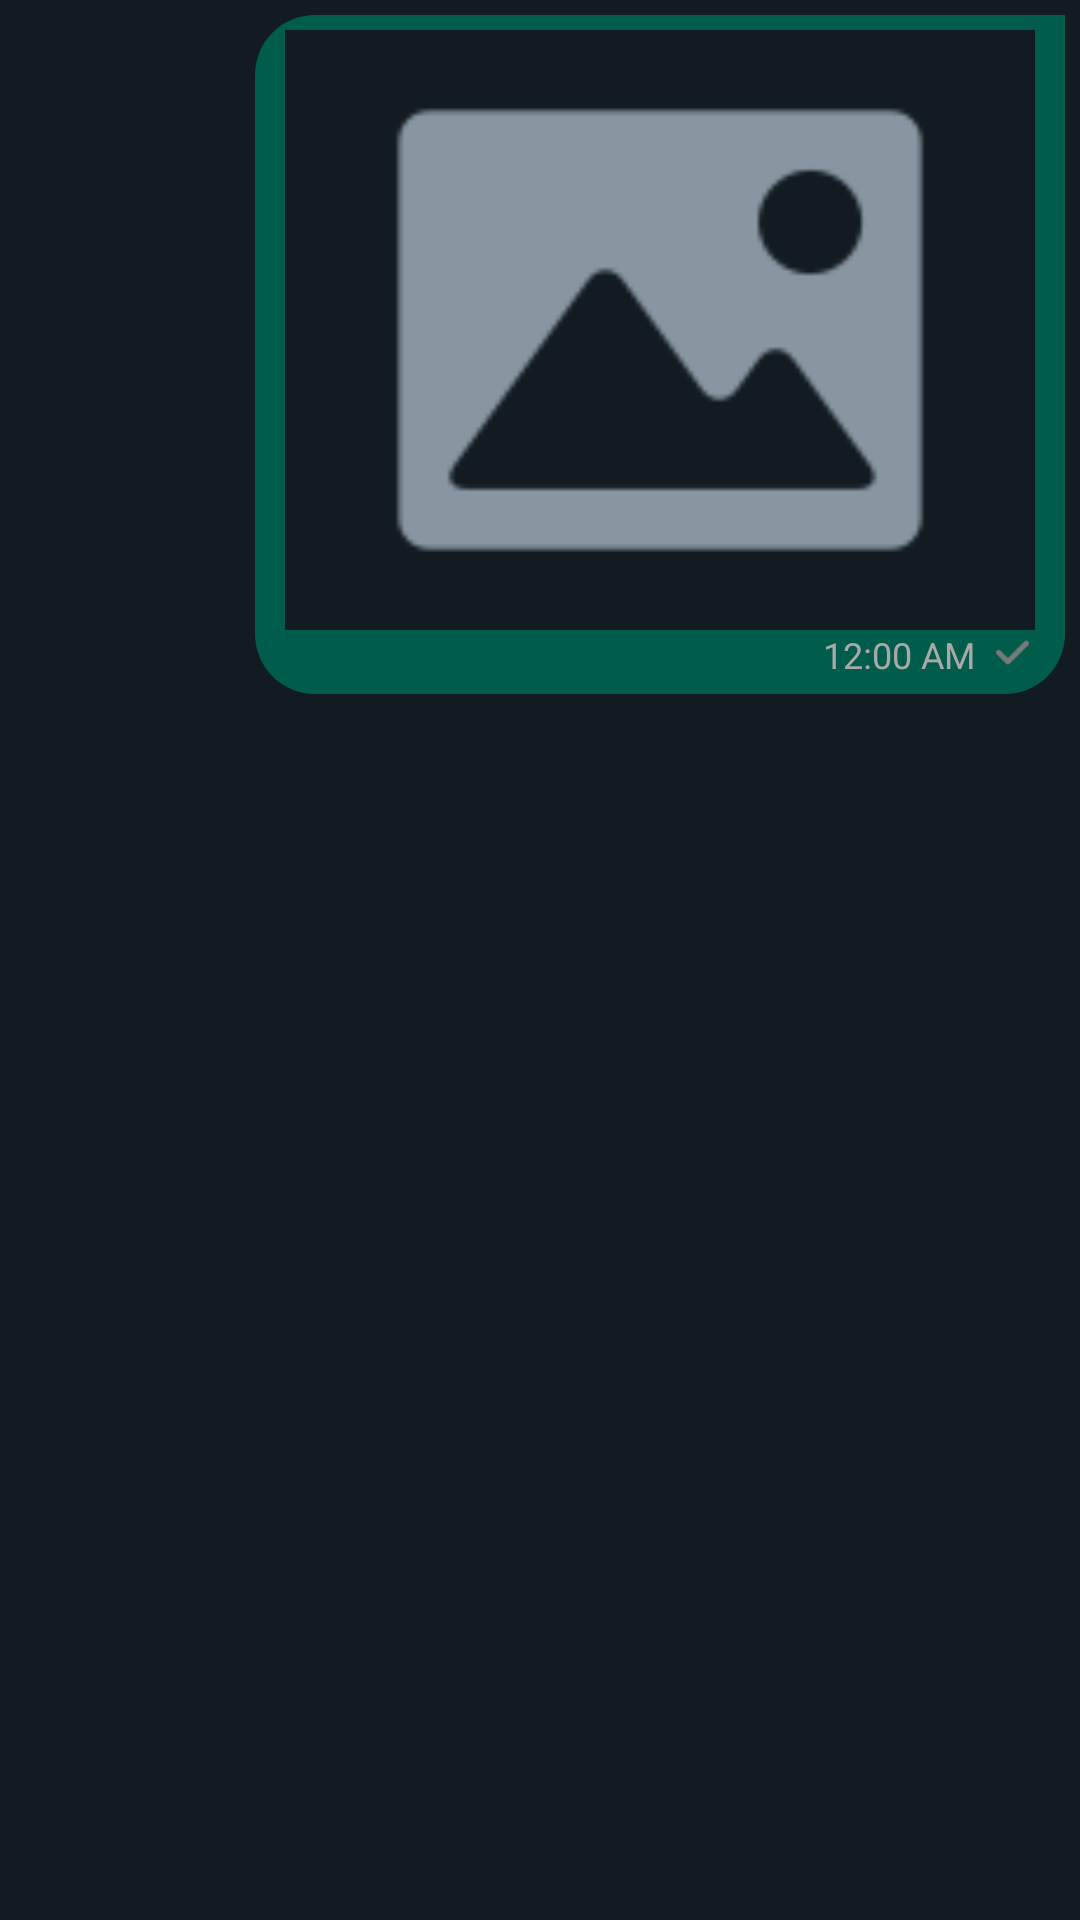

Screen size 1080×1920. Icon name, then its center in pixels as (x,y):
single tick: (1012,652)
